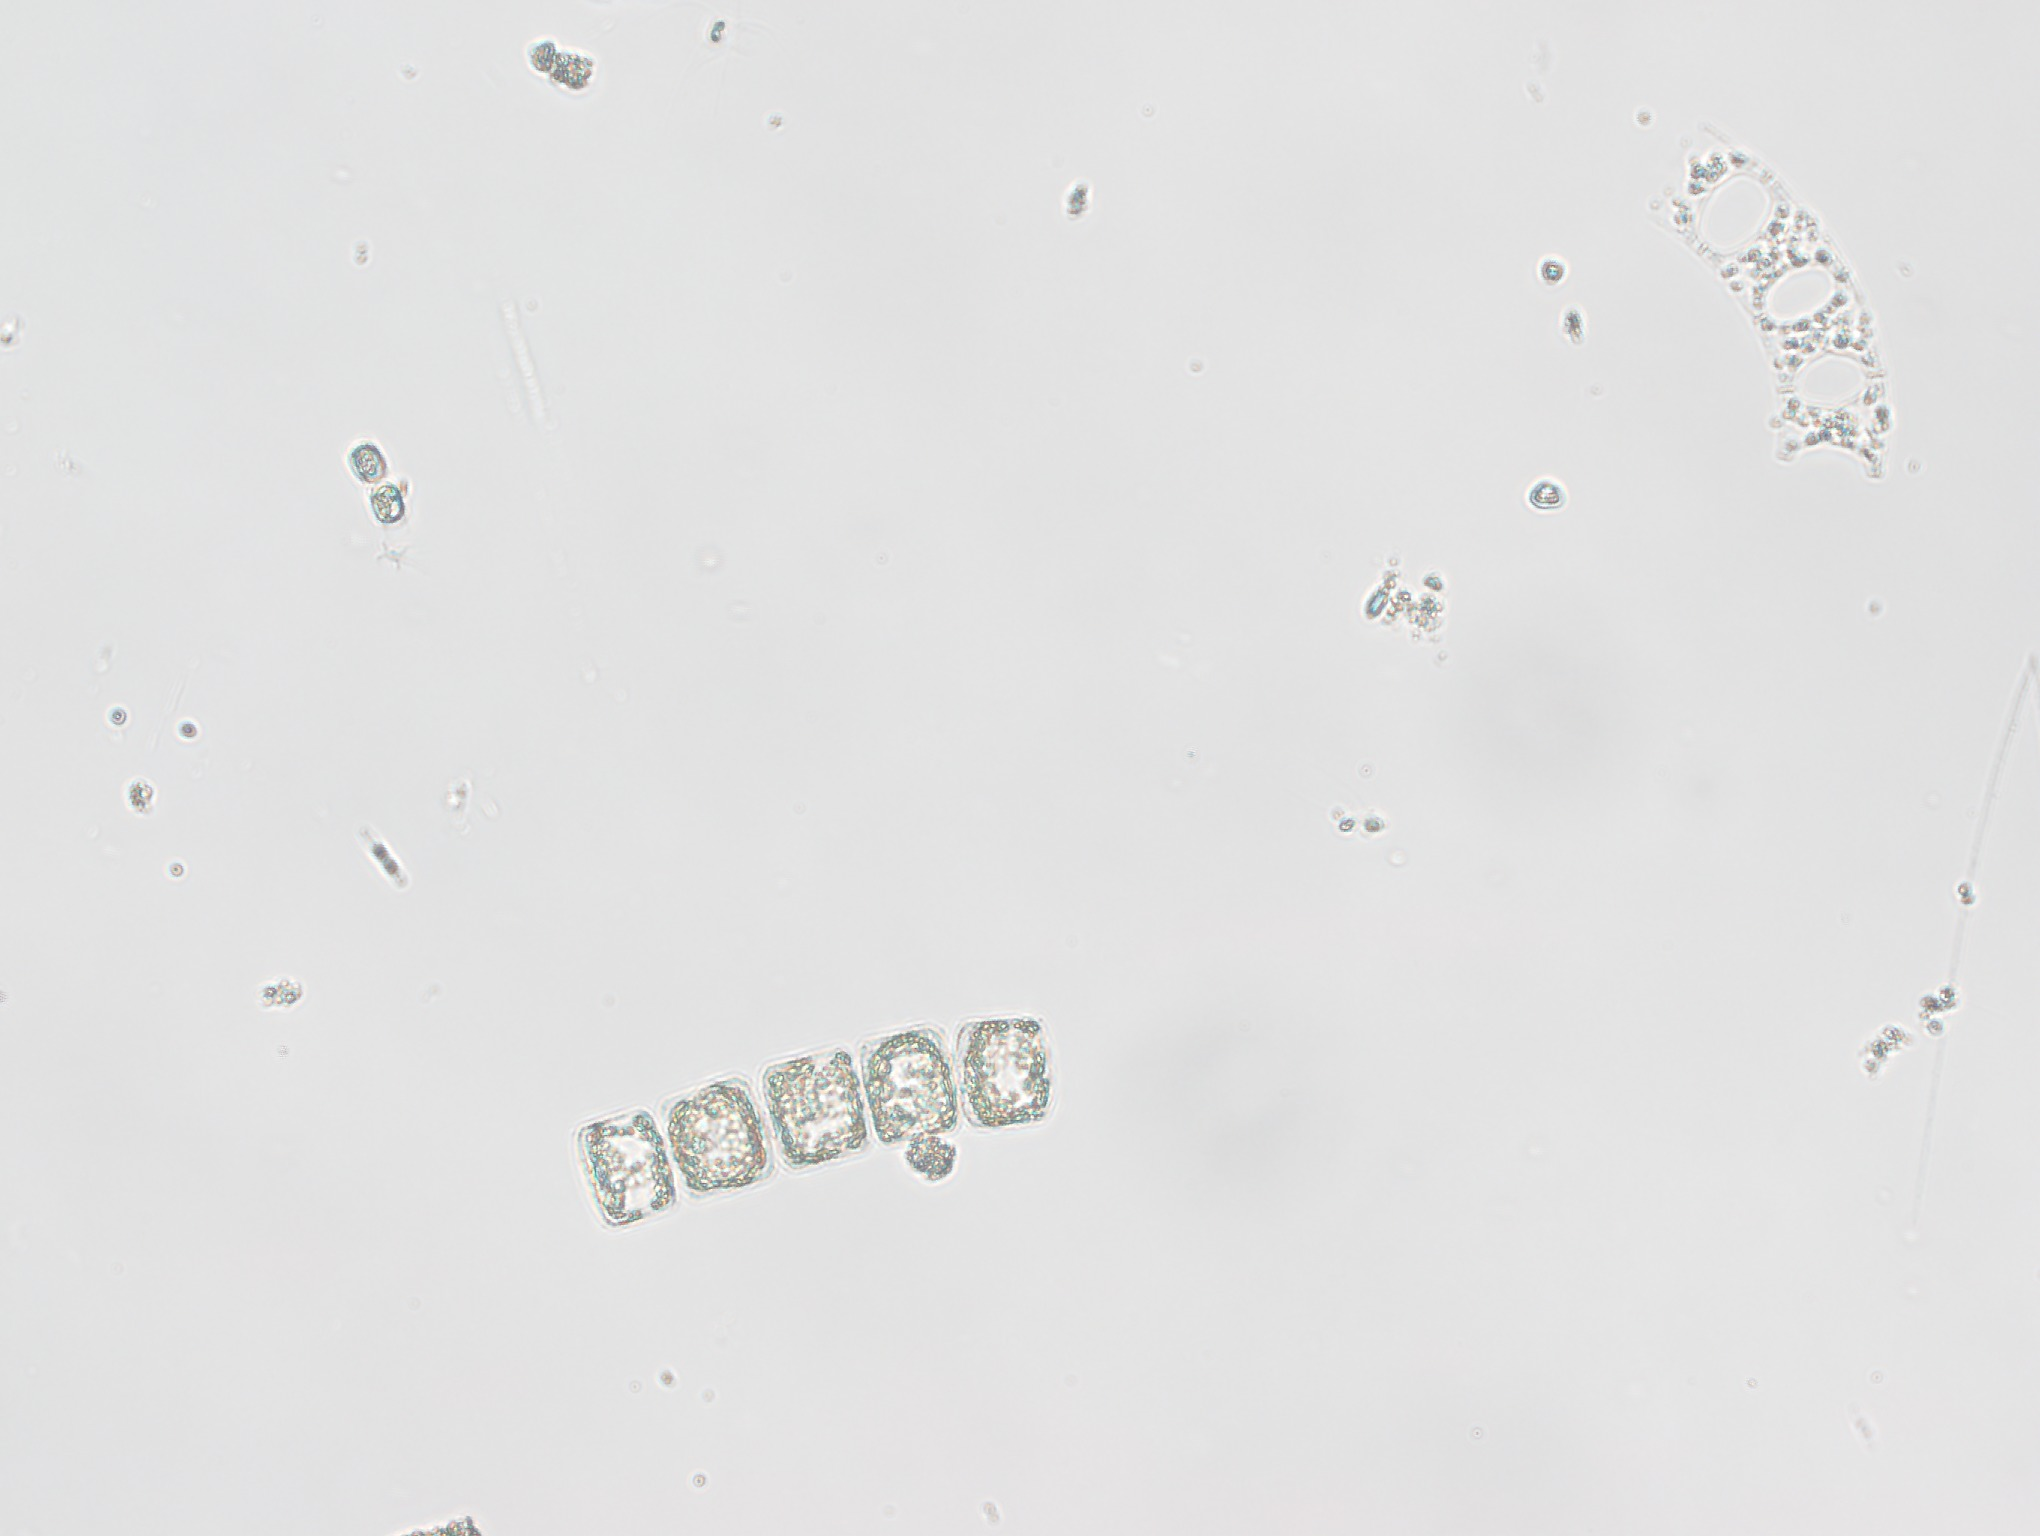detonula pumila: (548, 995, 1097, 1255)
eucampia: (1632, 127, 1955, 481)
